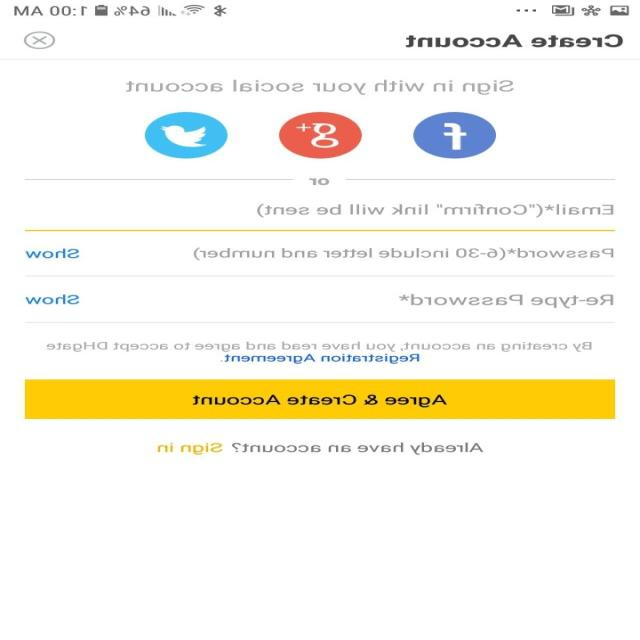EditText: (25, 246, 615, 277), (25, 293, 615, 323), (25, 203, 616, 231)
Icon: (413, 112, 497, 158), (279, 112, 363, 158), (144, 112, 228, 158), (24, 31, 57, 49)
Text: (46, 341, 592, 364), (126, 79, 515, 96), (256, 202, 614, 218), (193, 247, 614, 260), (158, 442, 484, 455), (399, 293, 614, 308), (406, 34, 624, 48), (26, 294, 81, 304), (26, 248, 80, 258), (310, 177, 334, 186)
TextButton: (26, 379, 616, 419)
